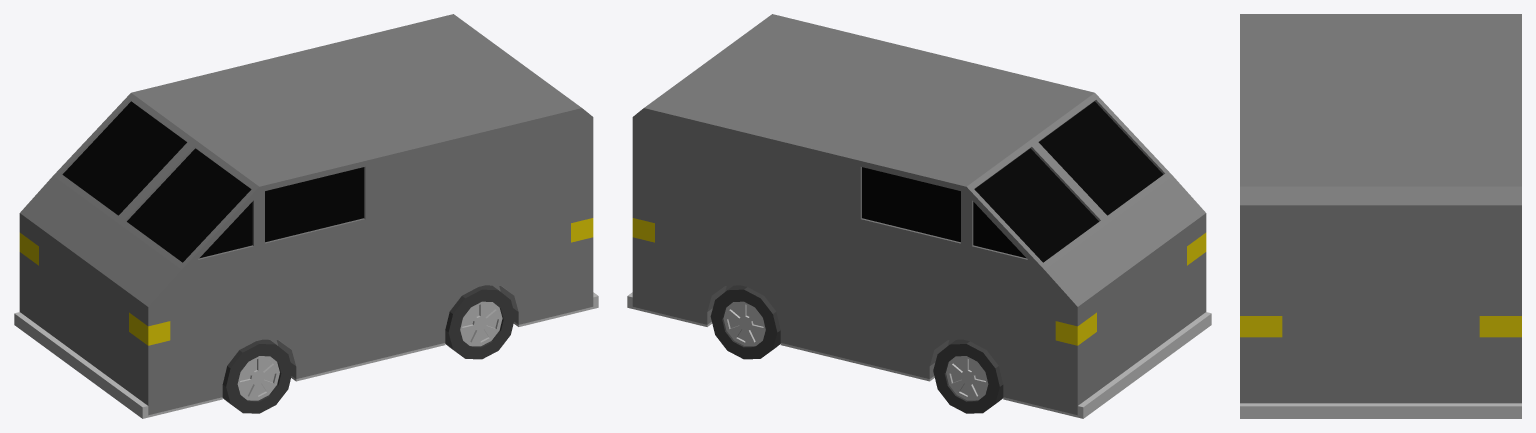
Rendered from truck.fbx.
3 renders of one model, left to right at view 1: azimuth 30°, elevation 25°; view 2: azimuth 150°, elevation 25°; view 3: azimuth 270°, elevation 25°, orthographic. The views are drawn at different scales.
Visible parts, largest first — view 1: truck_body, truck_windows, truck_base, tire_front_left, tire_back_left, truck_lights, wheel_front_left, wheel_back_left; view 2: truck_body, truck_windows, truck_base, tire_front_right, tire_back_right, truck_lights, wheel_front_right, wheel_back_right; view 3: truck_body, truck_base, truck_lights.
Boxes of the visible parts, left/top/right/bottom form: truck_body: left=19, top=14, right=593, bottom=415; truck_windows: left=62, top=101, right=363, bottom=262; truck_base: left=14, top=292, right=598, bottom=418; tire_front_left: left=222, top=339, right=292, bottom=413; tire_back_left: left=445, top=285, right=515, bottom=359; truck_lights: left=19, top=218, right=593, bottom=345; wheel_front_left: left=237, top=356, right=279, bottom=400; wheel_back_left: left=460, top=301, right=502, bottom=346; truck_body: left=632, top=14, right=1206, bottom=415; truck_windows: left=862, top=101, right=1163, bottom=262; truck_base: left=627, top=292, right=1211, bottom=418; tire_front_right: left=933, top=339, right=1003, bottom=413; tire_back_right: left=710, top=285, right=780, bottom=359; truck_lights: left=632, top=218, right=1206, bottom=345; wheel_front_right: left=946, top=356, right=988, bottom=400; wheel_back_right: left=723, top=301, right=765, bottom=346; truck_body: left=1240, top=14, right=1521, bottom=403; truck_base: left=1240, top=403, right=1521, bottom=418; truck_lights: left=1240, top=316, right=1521, bottom=337.
Size of the model in its own units: 1025 by 487 by 500.
